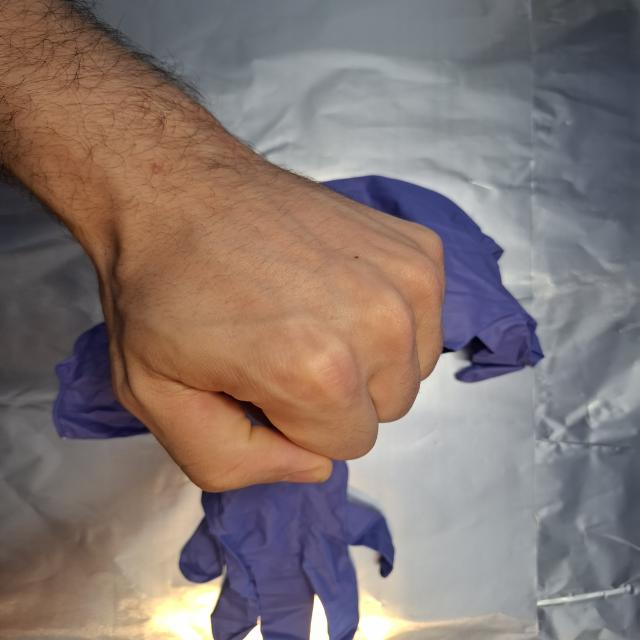glove_off: (96, 141, 450, 495)
